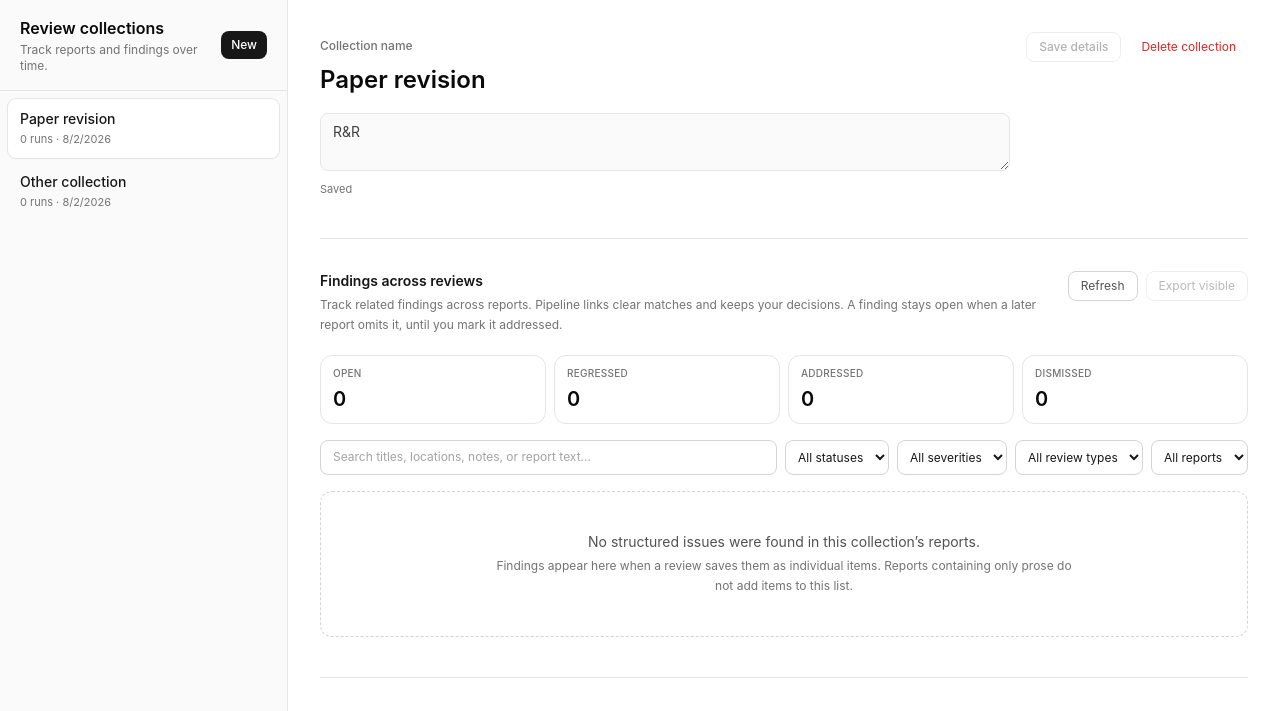
it: ProjectsPage › keeps a failed edit selected and retries before switching collections
Replace the text in the field labelled "Collection name" with "Revised title" at (665, 80), box [320,60,1010,101]
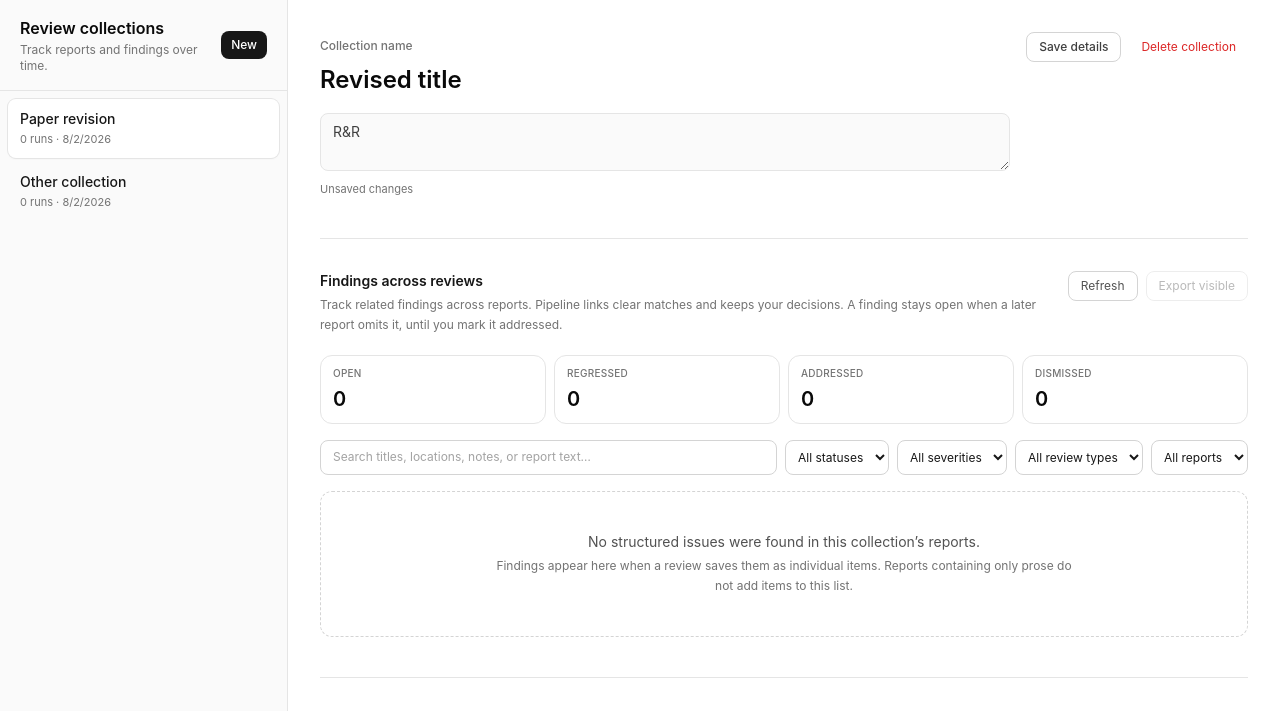
Replace the text in the text box named "Collection description" with "Keep this description" at (665, 142), box [320,113,1010,171]
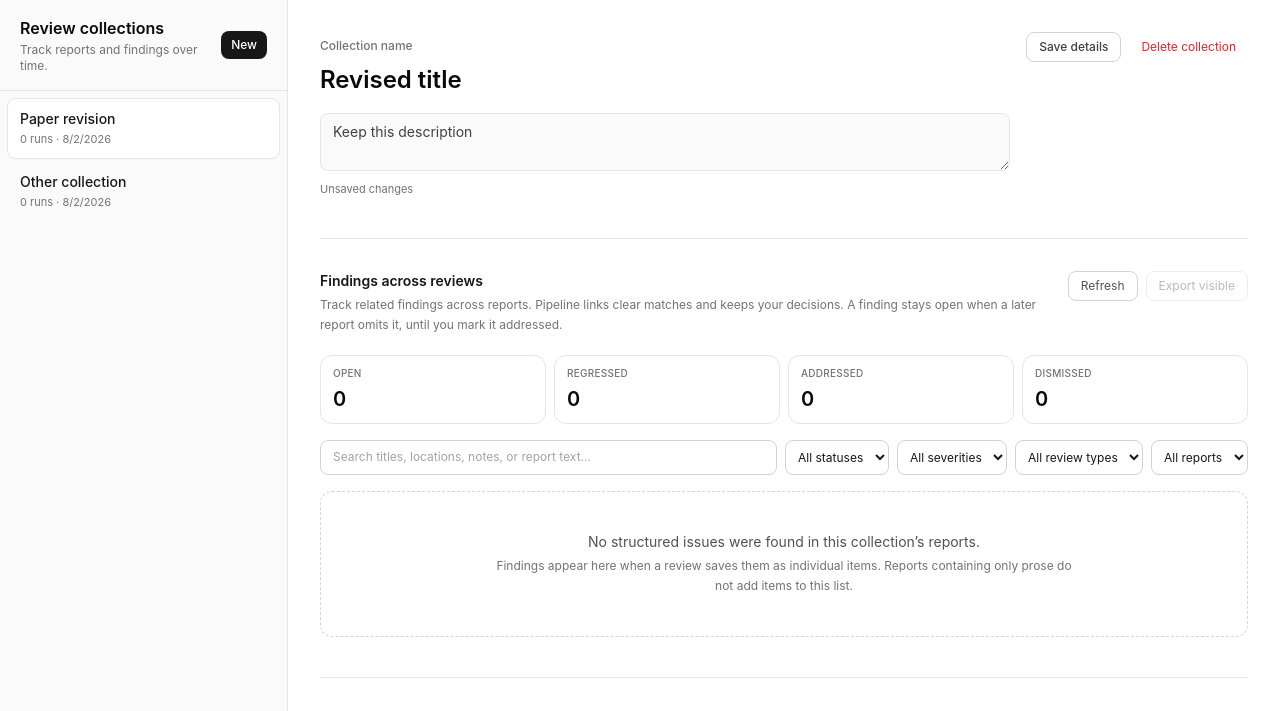
Click the button "Other collection 0 runs · 8/2/2026" at (73, 181), box [8,162,279,220]
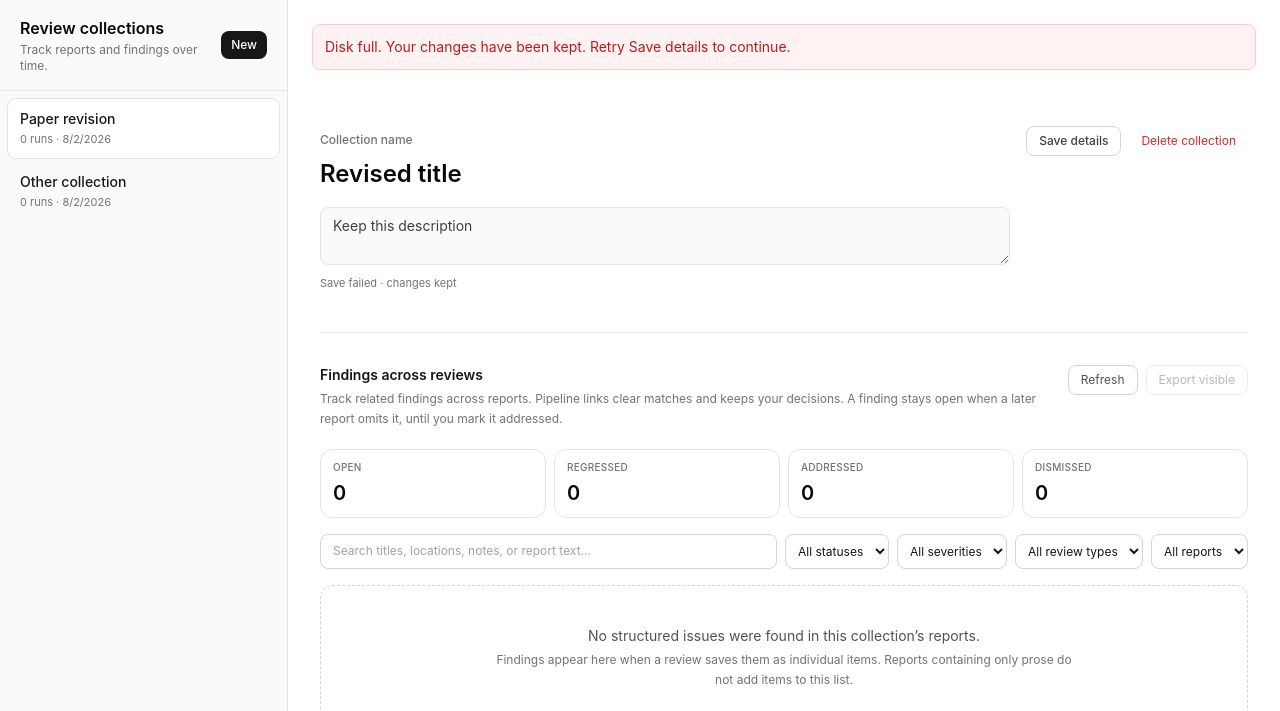
Expected: the message "Disk full. Your changes have been kept. Retry Save details to continue." is shown, [312,24,1256,70]
Click the button "Other collection 0 runs · 8/2/2026" at (73, 181), box [8,162,279,220]
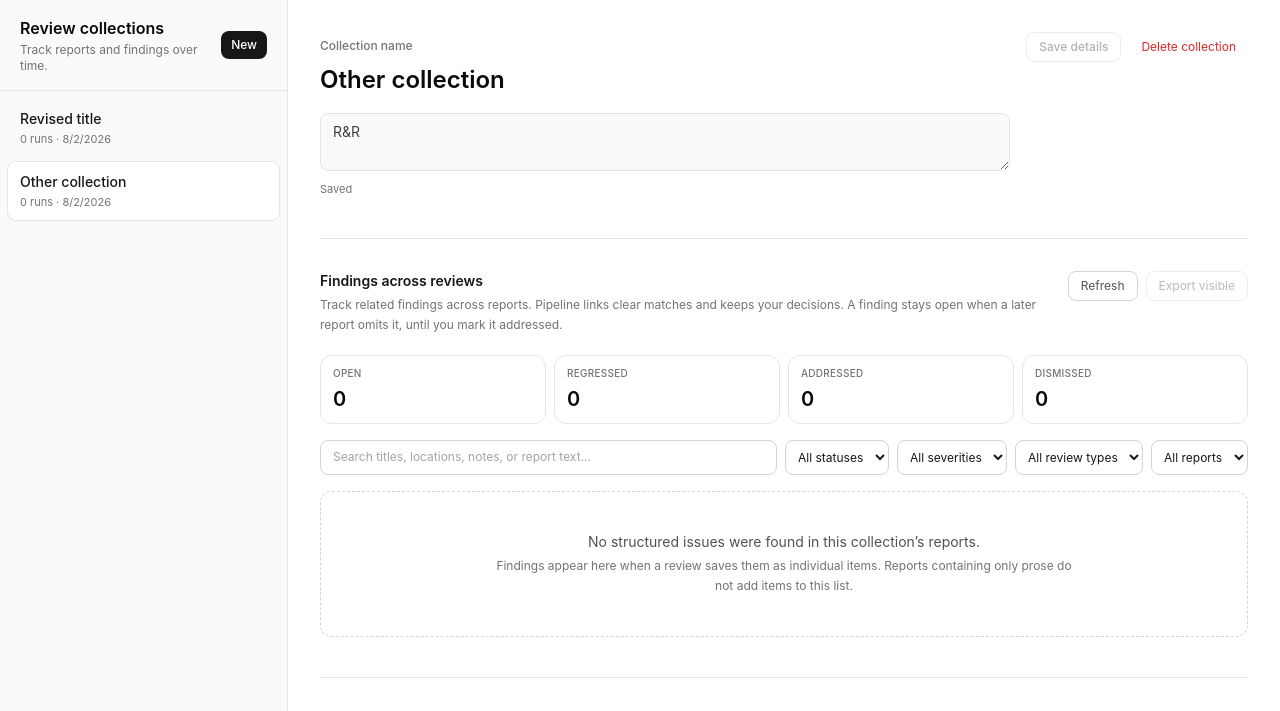
Expected: the field showing "Other collection" is shown, [320,60,1010,101]
